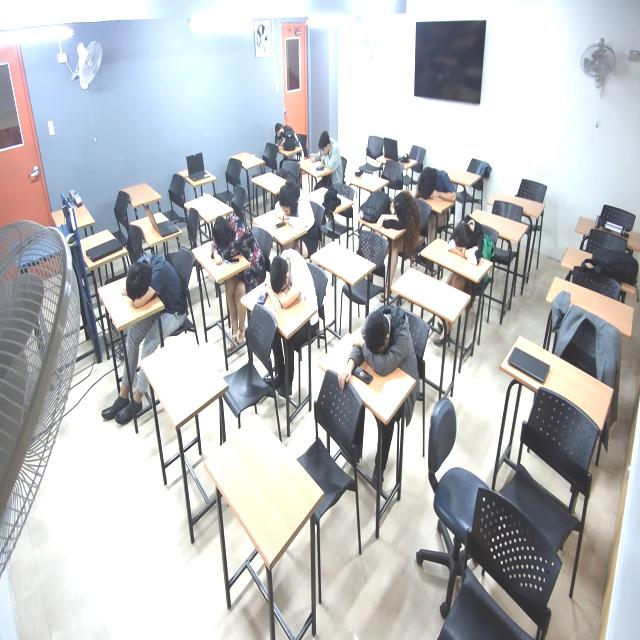sleep: (352, 305, 417, 380), (122, 254, 189, 311), (263, 245, 315, 312), (208, 212, 261, 271), (445, 212, 490, 271), (273, 178, 315, 234), (375, 190, 422, 237), (416, 168, 458, 205), (274, 122, 303, 154)
